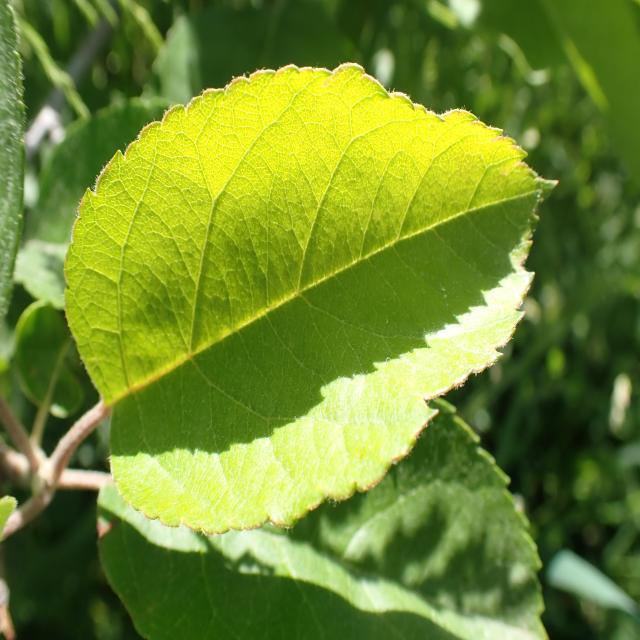healthy: (64, 61, 559, 536), (95, 396, 547, 639)
